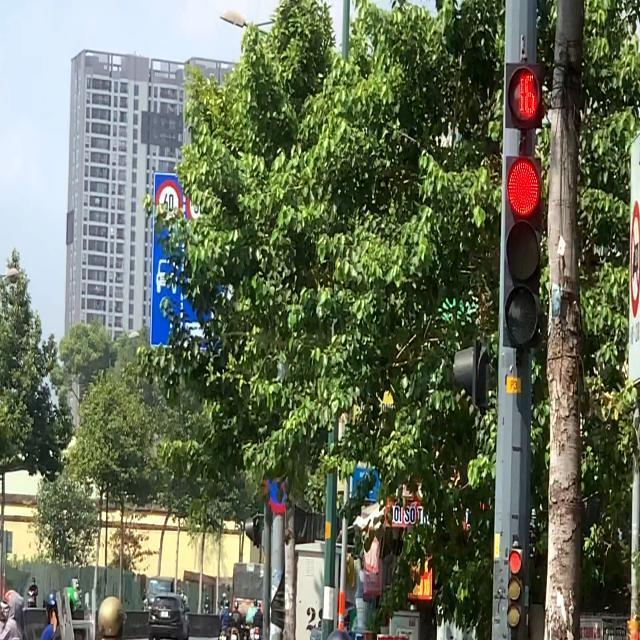127-toc-do-toi-da-60: (157, 180, 180, 227)
